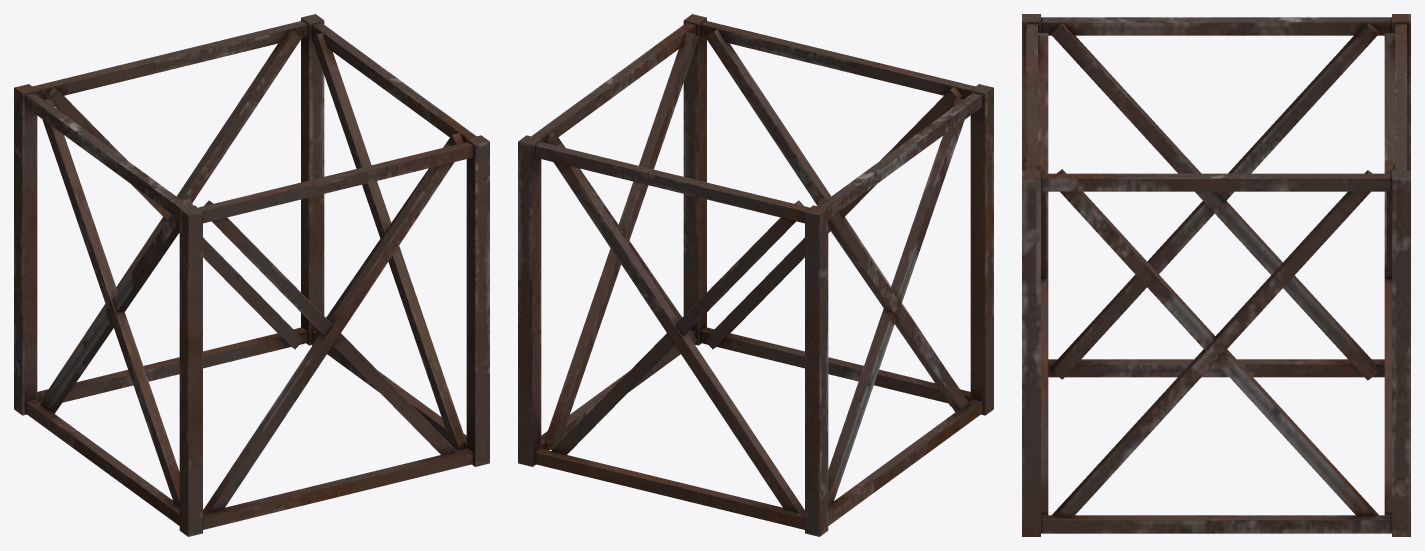
File: scaffold-big.gltf
The picture shows the model from 3 angles, left to right: view 1: azimuth 30°, elevation 25°; view 2: azimuth 150°, elevation 25°; view 3: azimuth 270°, elevation 25°; orthographic projection. The views are drawn at different scales.
Parts seen in each view (by area): view 1: Cube.034; view 2: Cube.034; view 3: Cube.034.
Boxes of the visible parts, x1=… form: Cube.034: x1=14, y1=14, x2=489, y2=536; Cube.034: x1=518, y1=14, x2=993, y2=536; Cube.034: x1=1022, y1=14, x2=1410, y2=536.
Size of the model in its own units: 4.51 by 4.6 by 4.52.
Materials: 1 (1 with a texture image).
